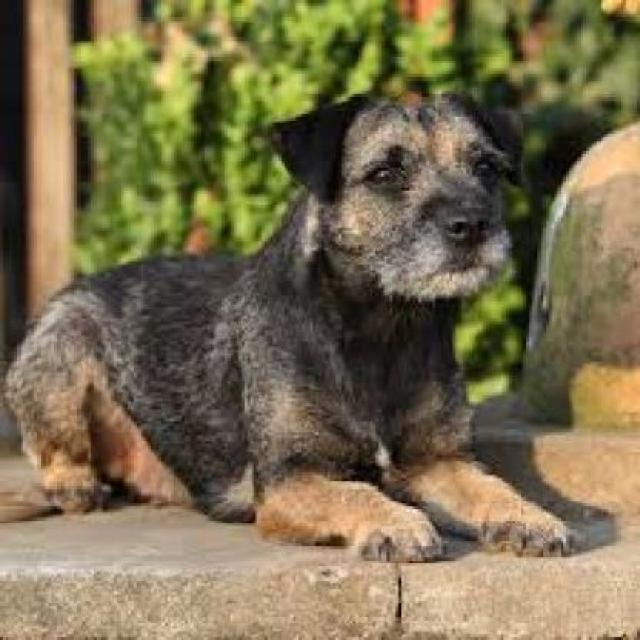animals: (12, 79, 594, 573)
